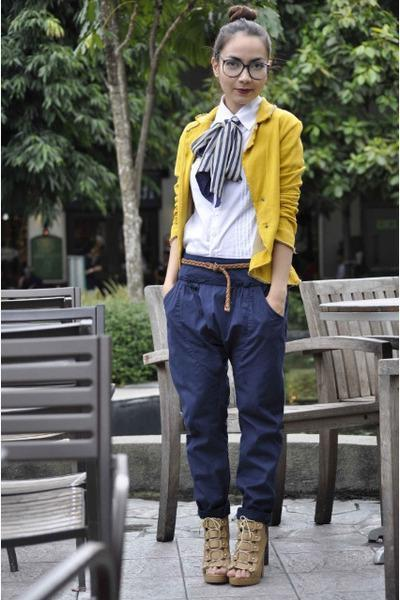jacket: (162, 100, 307, 292)
short sleeve shirt: (178, 98, 270, 261)
trousers: (162, 254, 288, 522)
